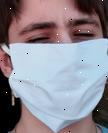with_mask: (2, 2, 108, 133)
